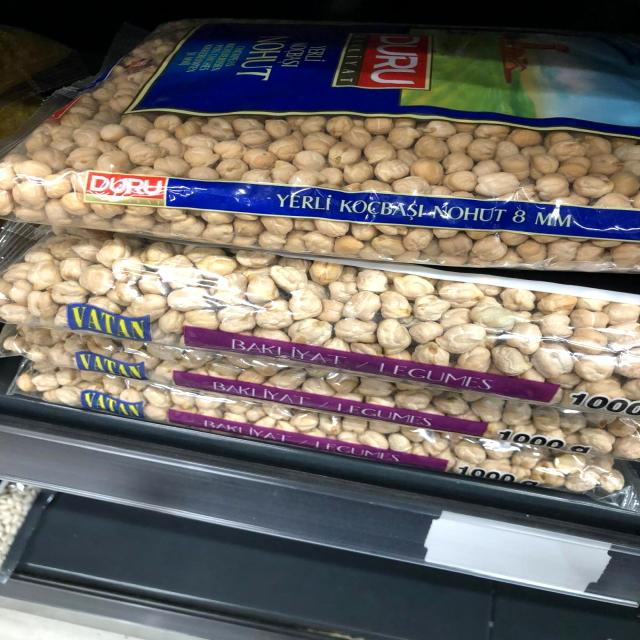chickpeas: (0, 223, 640, 488), (1, 12, 640, 258)
